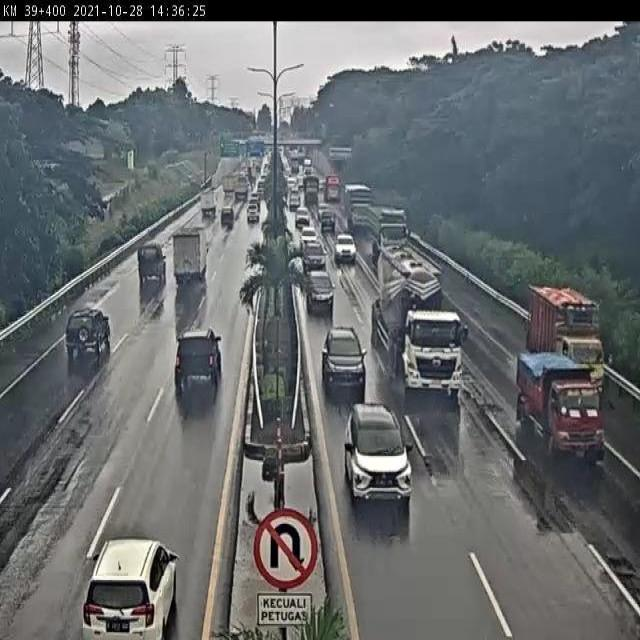big truck: (371, 259, 467, 401), (366, 200, 409, 265), (171, 228, 209, 284)
car: (83, 534, 181, 640), (345, 402, 414, 507), (174, 328, 223, 392), (322, 324, 365, 388), (65, 305, 112, 363), (133, 243, 167, 289), (305, 272, 336, 312), (303, 241, 325, 272), (334, 232, 356, 260), (299, 224, 318, 244), (245, 205, 261, 228), (220, 207, 235, 229)
small truck: (513, 349, 607, 467), (529, 285, 605, 403), (198, 188, 216, 216)
